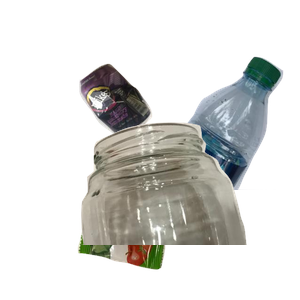glass: (74, 120, 300, 300)
metal: (77, 61, 222, 191)
plastic: (142, 54, 300, 234)
trash: (75, 156, 244, 300)
